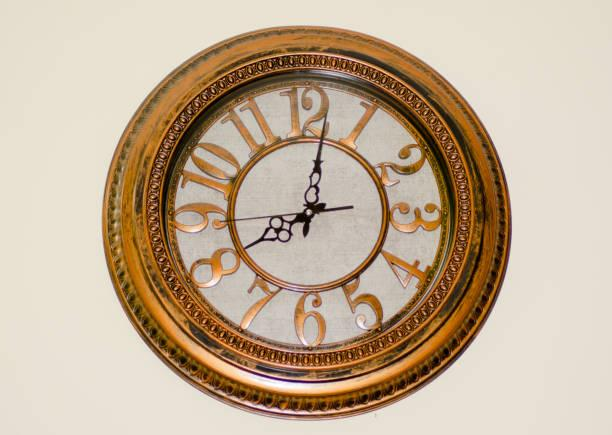clock: (112, 27, 518, 422)
